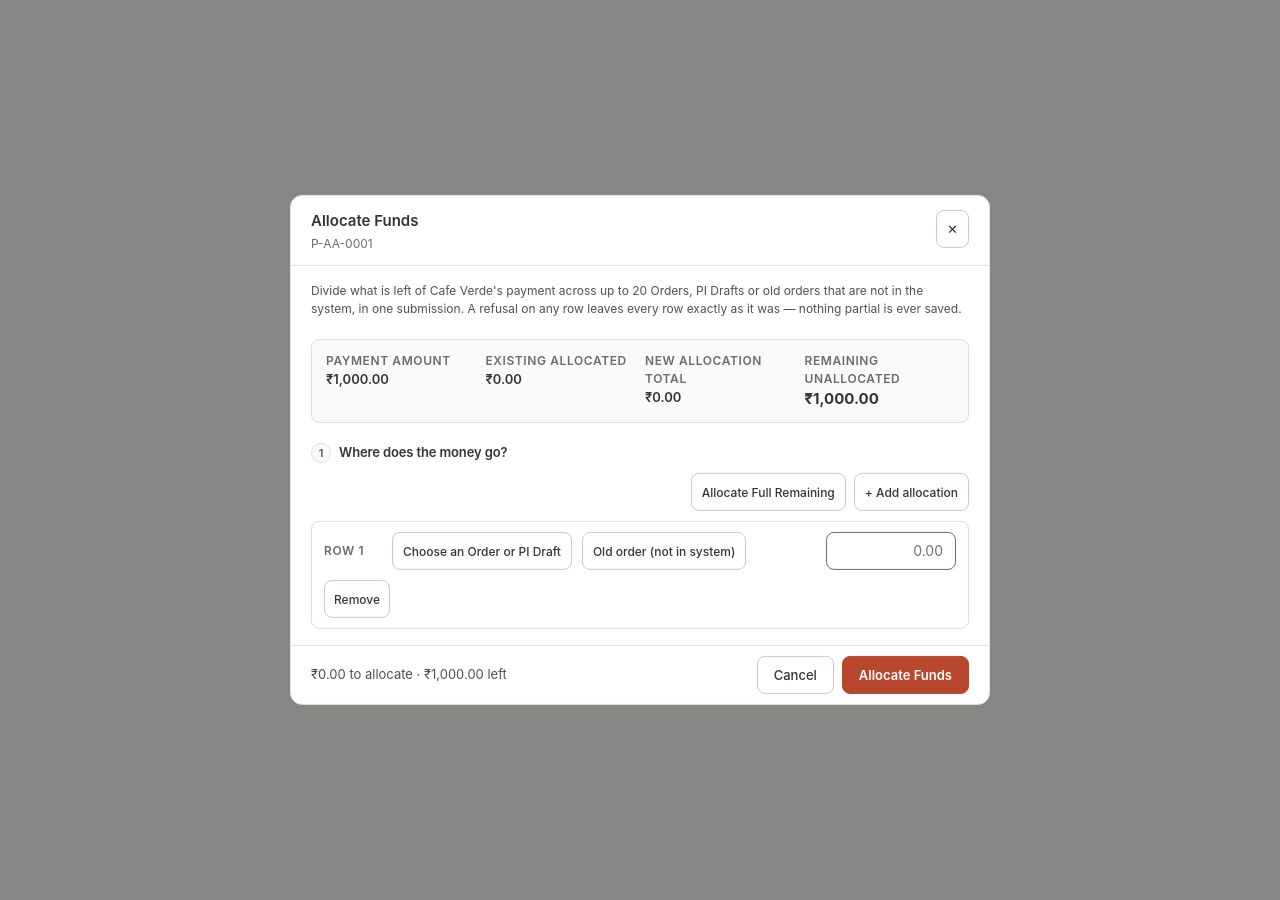
Test: Allocate Funds › pressing Allocate on an empty form is not blocked by a greyed-out button; it names what is missing
Click the button "Allocate Funds" at (905, 675), box left=842, top=656, right=969, bottom=694
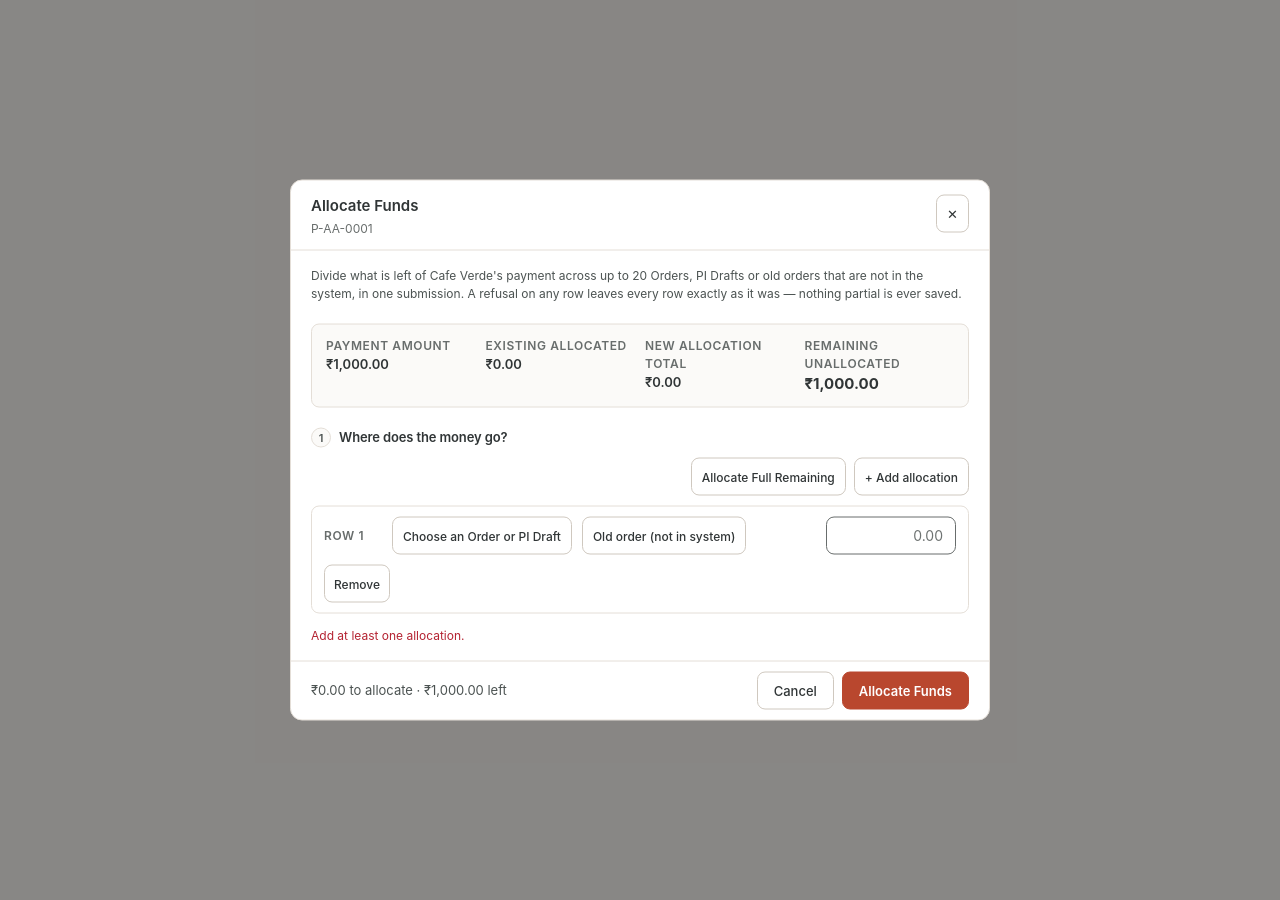
Check: the text "Add at least one allocation." is shown, box left=311, top=628, right=464, bottom=643
